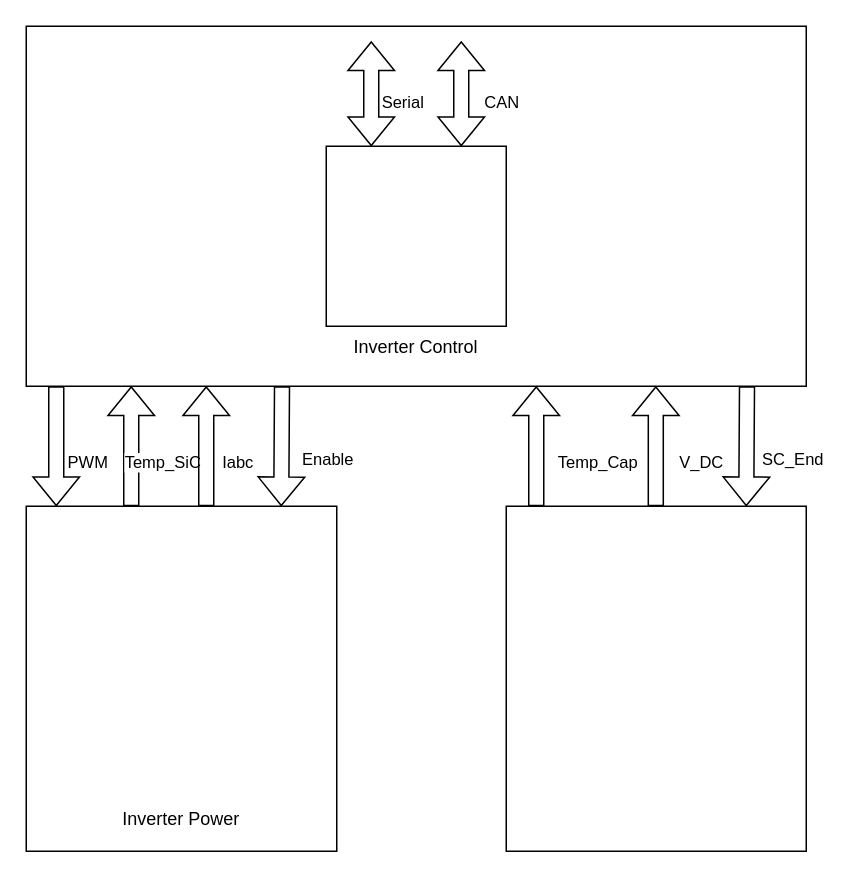
The diagram is 849 pixels wide and 878 high, and some of its shapes have lost their labels. The centre of each missing label's shape, as x and y in pixels:
"Inverter DC Bus" belongs at [655,678].
"Shield (STM32)" belongs at [415,235].
